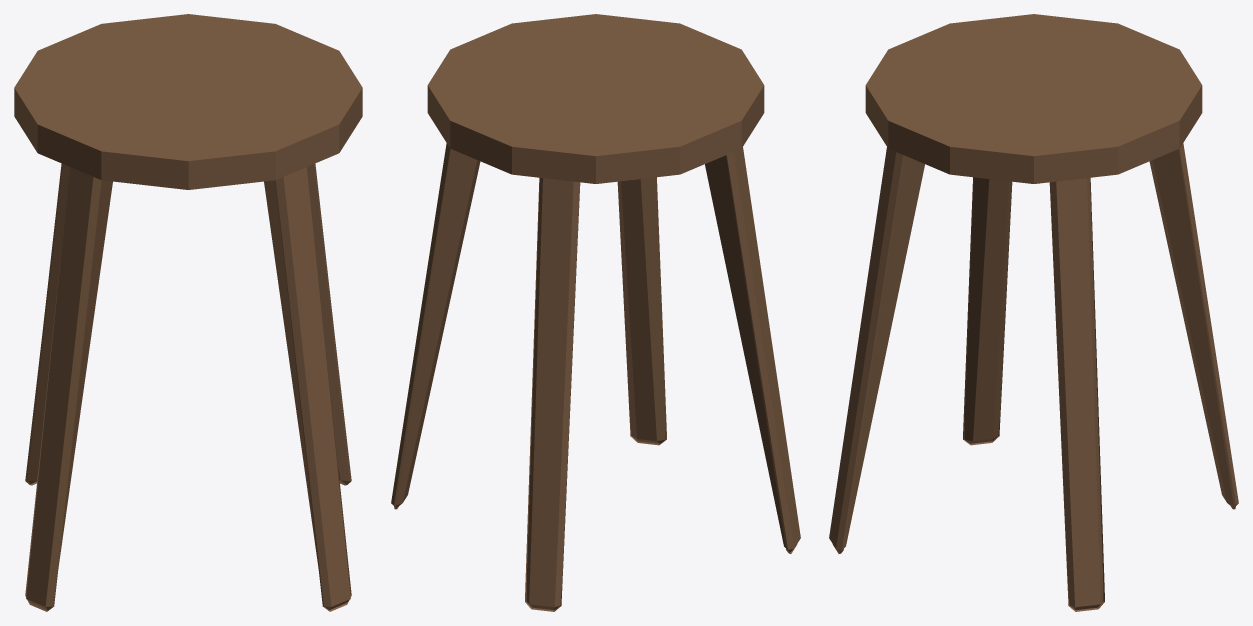
The model's file is stool.gltf.
3 views of the same model, side by side, from view 1: azimuth 30°, elevation 25°; view 2: azimuth 150°, elevation 25°; view 3: azimuth 270°, elevation 25° (orthographic). The views are drawn at different scales.
Parts seen in each view (by area): view 1: Cube; view 2: Cube; view 3: Cube.
Boxes of the visible parts, <box> form: Cube: <box>14,14,362,611</box>; Cube: <box>391,14,800,611</box>; Cube: <box>829,14,1238,611</box>.
Size of the model in its own units: 2.44 by 2.9 by 2.44.
1 material, 1 textured.
